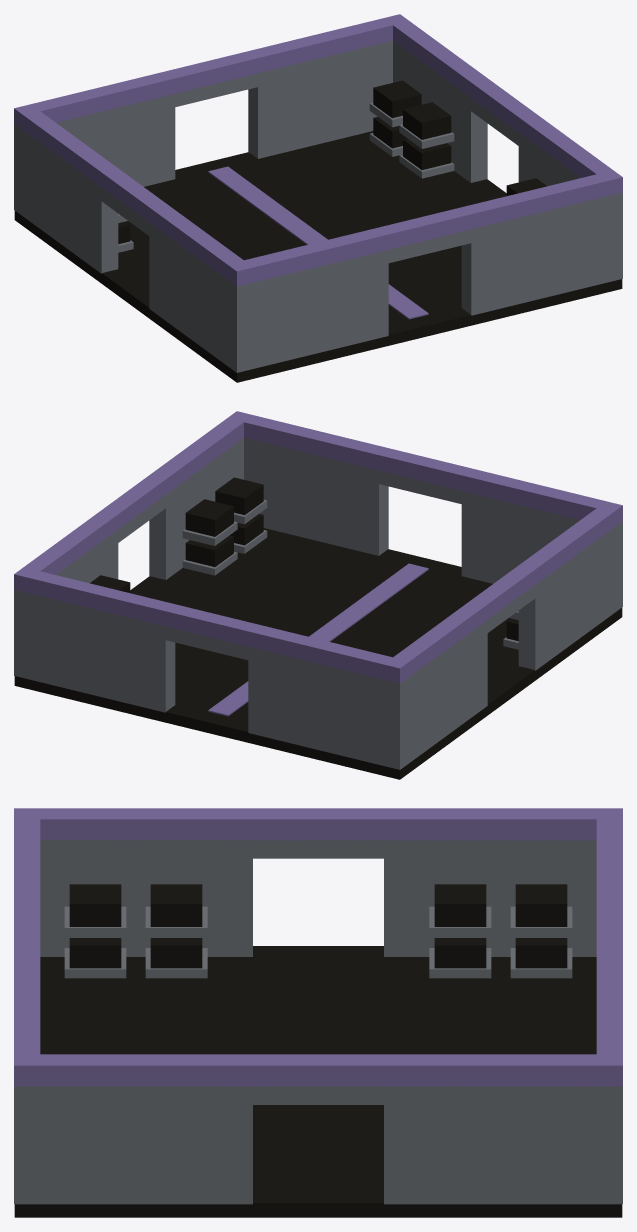
The model's file is TombCorridor.fbx.
The picture shows the model from 3 angles, top to bottom: view 1: azimuth 30°, elevation 25°; view 2: azimuth 150°, elevation 25°; view 3: azimuth 270°, elevation 25°; orthographic projection. The views are drawn at different scales.
Parts seen in each view (by area): view 1: TombCorridor; view 2: TombCorridor; view 3: TombCorridor.
Part boxes in pixels (bbox=[...]): TombCorridor: bbox=[14, 14, 622, 382]; TombCorridor: bbox=[14, 411, 622, 779]; TombCorridor: bbox=[14, 808, 622, 1217].
Size of the model in its own units: 1202 by 332 by 1202.
Materials: 3 (3 with a texture image).
